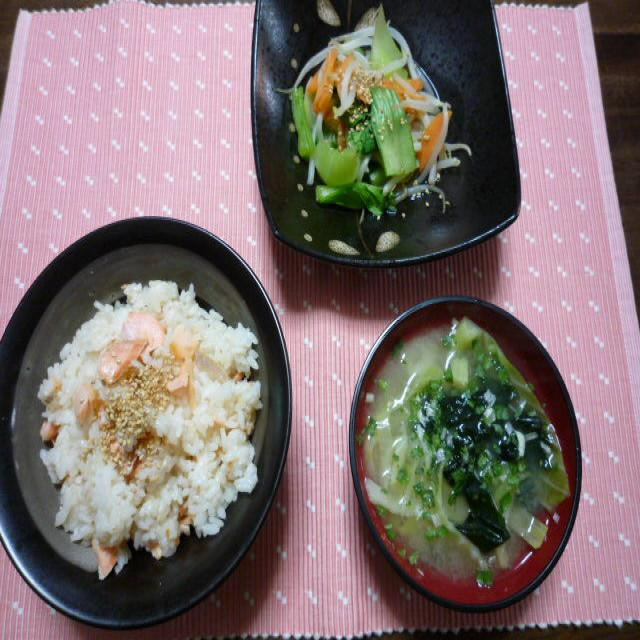汤锅炖物: (357, 300, 600, 608)
米饭主食: (0, 219, 302, 624)
